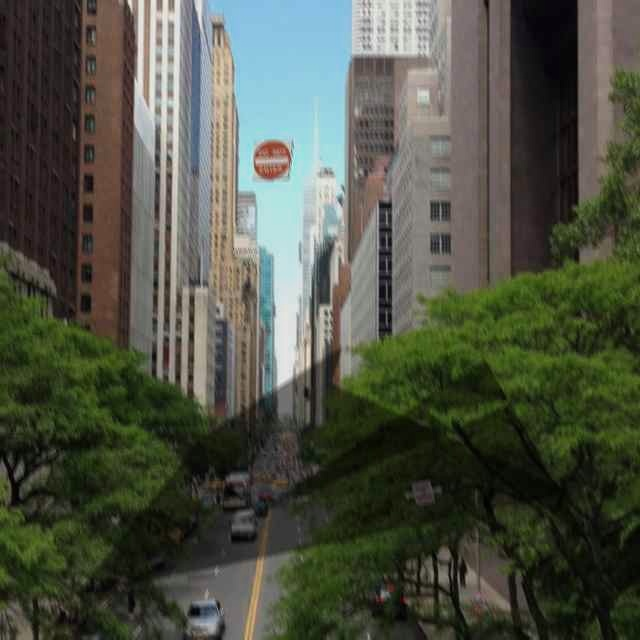DO_NOT_ENTER: (251, 140, 292, 181)
DO_NOT_GO_AROUND: (401, 480, 442, 506)
